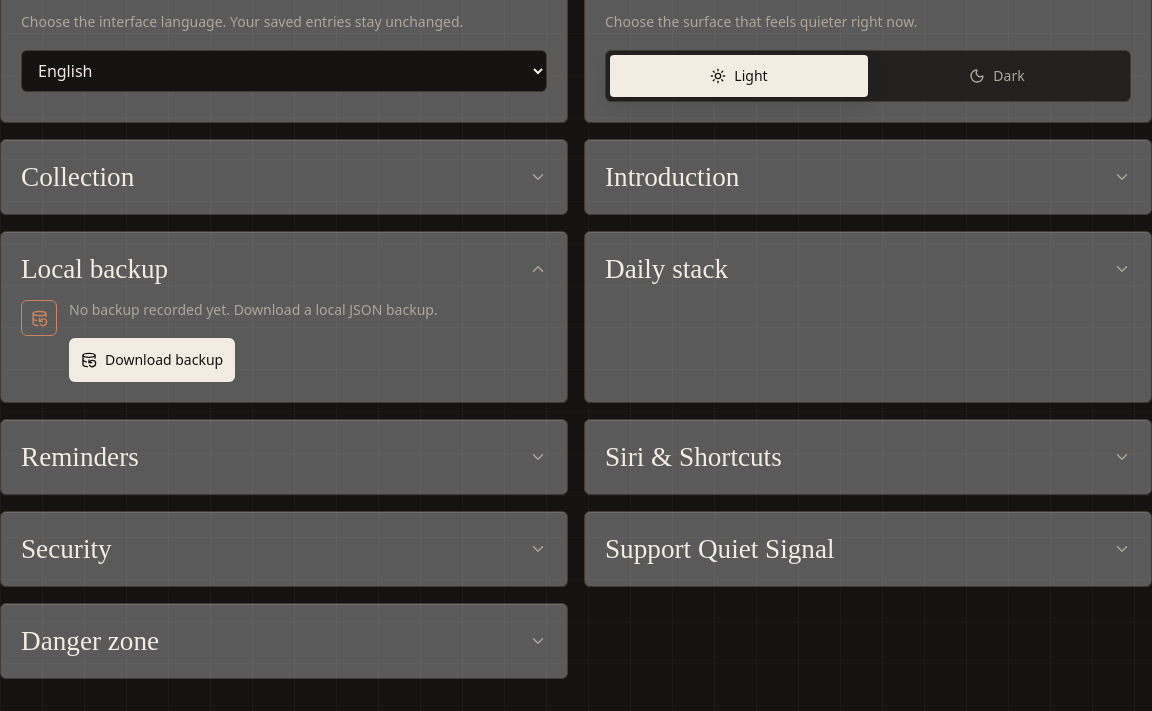
Test: SettingsPage: Backup › erstellt ein Backup und merkt sich den Zeitpunkt
(page scrolled)
Expected: the text "No backup recorded yet. Download a local JSON backup." is shown, [69, 298, 438, 322]
Click the button "Download backup" at (152, 360), box [69, 338, 235, 382]
(page scrolled)
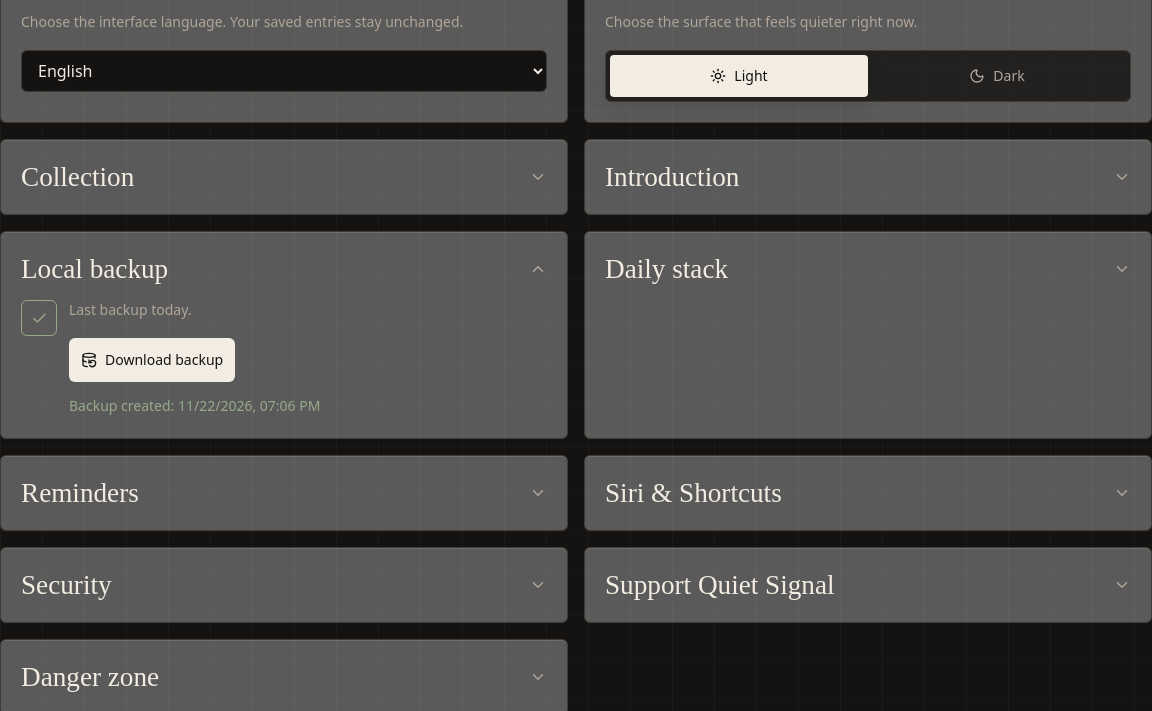
Now the text "Backup created: 11/22/2026, 07:06 PM" is shown, box [69, 394, 320, 418]
Now the text "Last backup today." is shown, box [69, 300, 192, 319]
